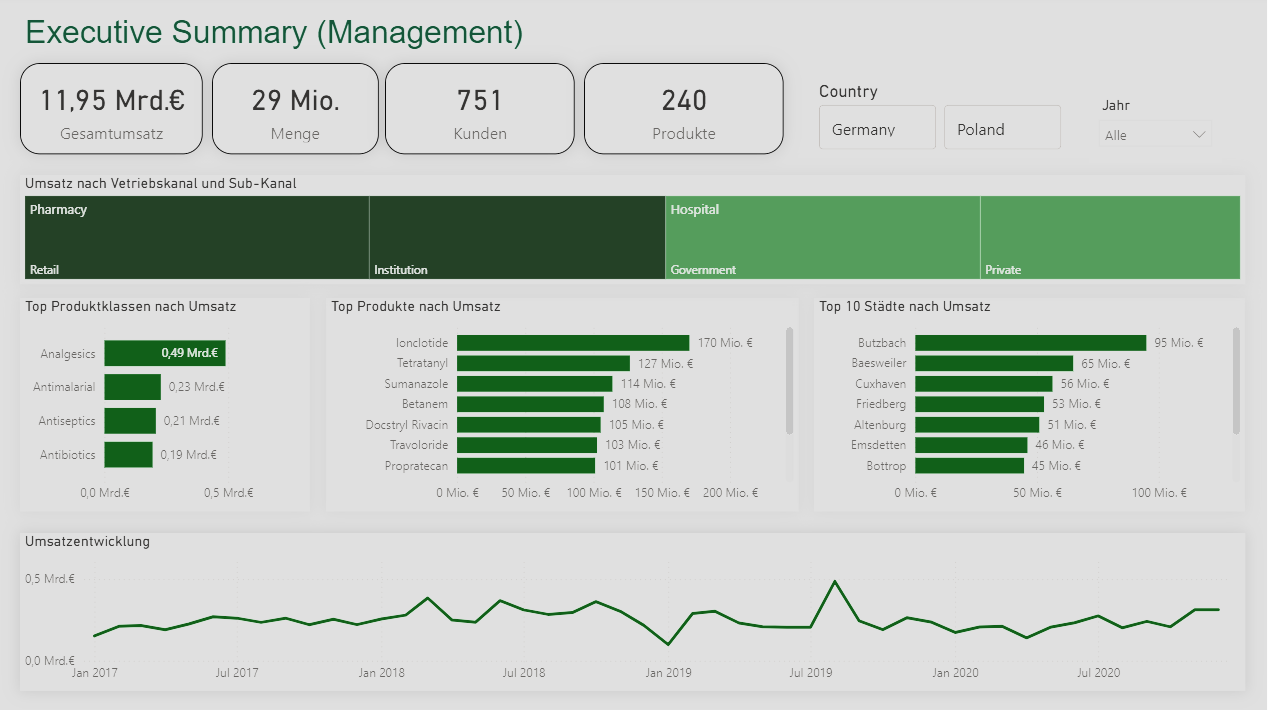

What the dashboard file says about the page in this screenshot:
{"tool":"powerbi","page":{"name":"Executive Summary","canvas":[1280,720],"ordinal":0},"visuals":[{"type":"card","fields":{"Values":["_Measures.Total Sales"]},"box":[21.3,65.6,184.4,92.2],"z":0},{"type":"card","fields":{"Values":["_Measures.Total Quantity"]},"box":[214.5,65.6,167.5,92.2],"z":1000},{"type":"card","fields":{"Values":["_Measures.Number of Customers"]},"box":[389.1,65.6,191.5,92.2],"z":2000},{"type":"card","fields":{"Values":["_Measures.Number of Products"]},"box":[589.5,65.6,201.2,92.2],"z":3000},{"type":"lineChart","title":"Umsatzentwicklung","fields":{"Y":["_Measures.Total Sales"],"Category":["DimDatenew.Date Hierarchie.Date","DimDatenew.Date Hierarchie.Month","DimDatenew.Date Hierarchie.Year"]},"box":[21.3,538.9,1233.9,158.7],"z":4000},{"type":"clusteredBarChart","title":"Top Produkte nach Umsatz","fields":{"Category":["DimProduct.Product Name"],"Y":["_Measures.Total Sales"]},"box":[328.9,302.3,476,214.5],"z":5000},{"type":"textbox","box":[21.3,10.6,537.2,47.9],"z":6000},{"type":"clusteredBarChart","title":"Top 10 Städte nach Umsatz","fields":{"Y":["_Measures.Total Sales"],"Category":["DimCustomer.City"]},"box":[820.8,302.3,434.3,214.5],"z":7000},{"type":"treemap","title":"Umsatz nach Vetriebskanal und Sub-Kanal","fields":{"Group":["DimChannel.Channel"],"Details":["DimChannel.Sub-channel"],"Values":["_Measures.Total Sales"]},"box":[21.3,178.2,1233.9,109.9],"z":8000},{"type":"clusteredBarChart","title":"Top Produktklassen nach Umsatz","fields":{"Category":["DimProduct.Product Class"],"Y":["_Measures.Total Sales"]},"box":[21.3,302.3,291.6,214.5],"z":9000},{"type":"advancedSlicerVisual","fields":{"Values":["DimCustomer.Country"]},"box":[820.6,83.3,255,74.4],"z":10000},{"type":"slicer","fields":{"Values":["DimDatenew.Year"]},"box":[1097.4,94.3,134,72.4],"z":11000}]}

Visuals, with their boxes in screenshot pixels (x1, y1, x2, y2), scaled from the page's 1280x720 canvas onto the 1268x710 screenshot:
card - _Measures.Total Sales: 21, 65, 204, 156
card - _Measures.Total Quantity: 212, 65, 378, 156
card - _Measures.Number of Customers: 385, 65, 575, 156
card - _Measures.Number of Products: 584, 65, 783, 156
"Umsatzentwicklung" lineChart: 21, 531, 1243, 688
"Top Produkte nach Umsatz" clusteredBarChart: 326, 298, 797, 510
textbox: 21, 10, 553, 58
"Top 10 Städte nach Umsatz" clusteredBarChart: 813, 298, 1243, 510
"Umsatz nach Vetriebskanal und Sub-Kanal" treemap: 21, 176, 1243, 284
"Top Produktklassen nach Umsatz" clusteredBarChart: 21, 298, 310, 510
advancedSlicerVisual - DimCustomer.Country: 813, 82, 1066, 156
slicer - DimDatenew.Year: 1087, 93, 1220, 164
